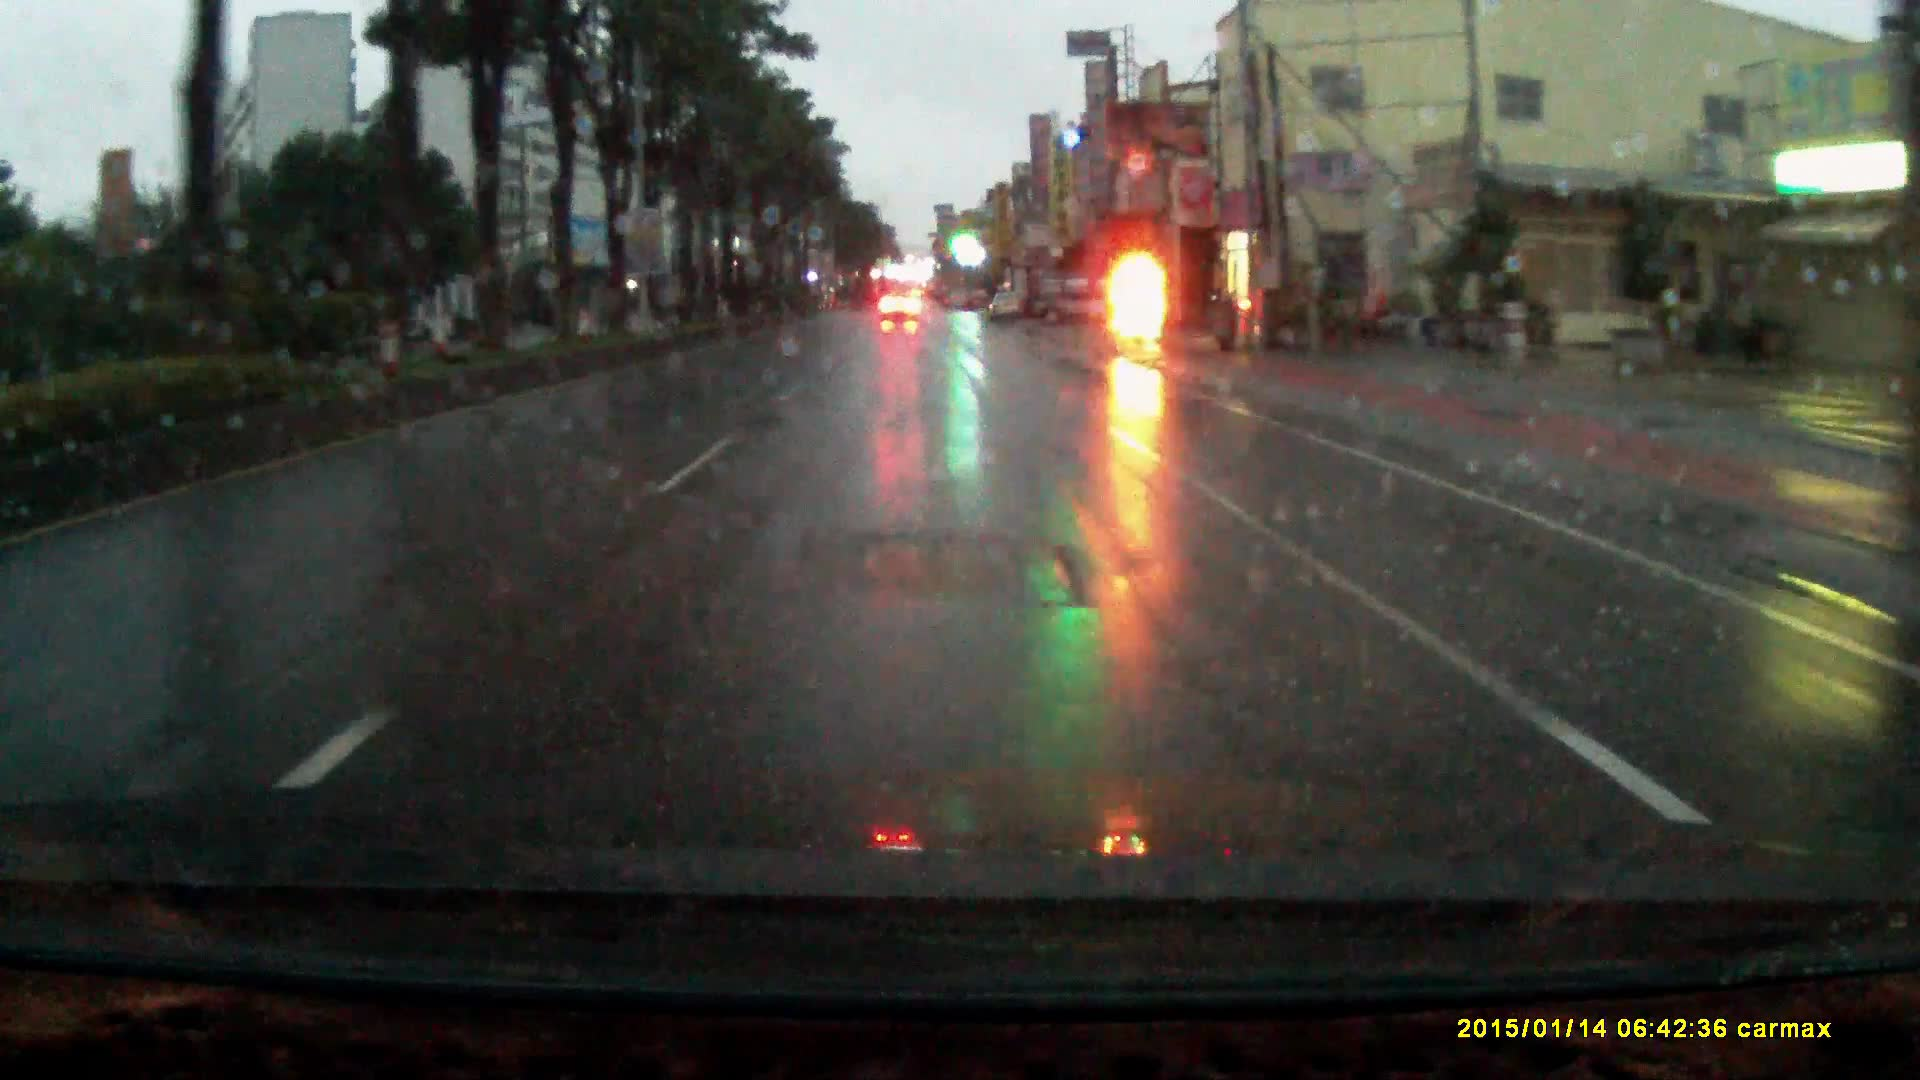vehicle: (1034, 272, 1126, 324), (880, 291, 924, 326)
